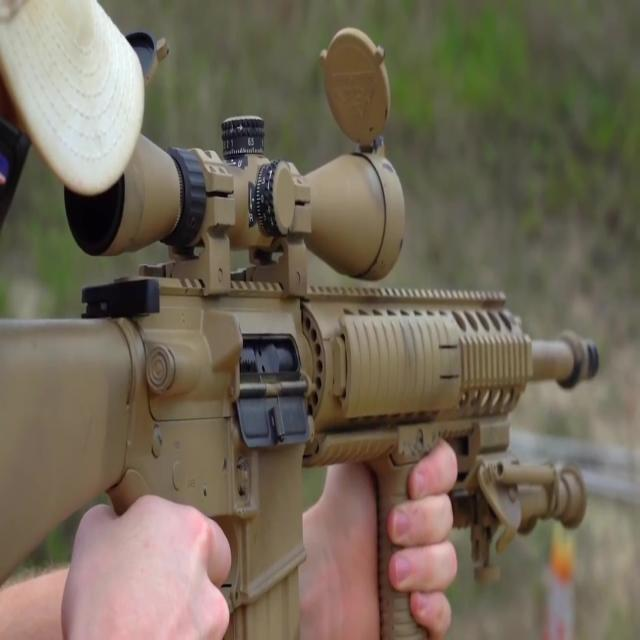Weapon: (11, 6, 604, 640)
